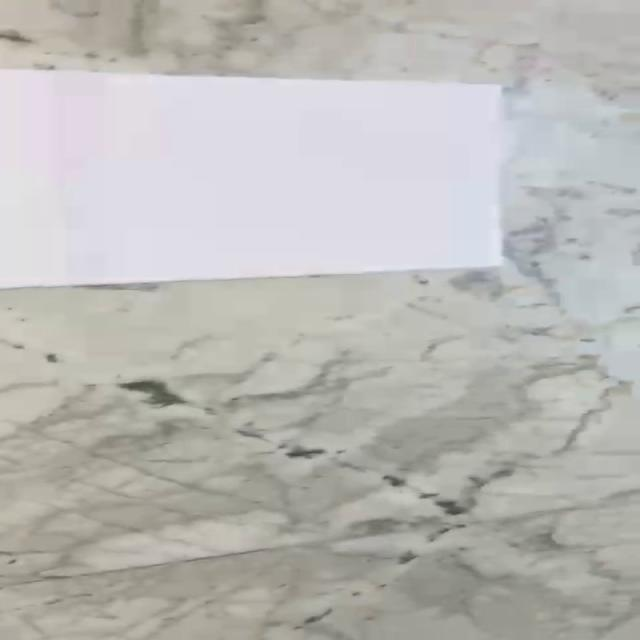road: (0, 68, 508, 288)
